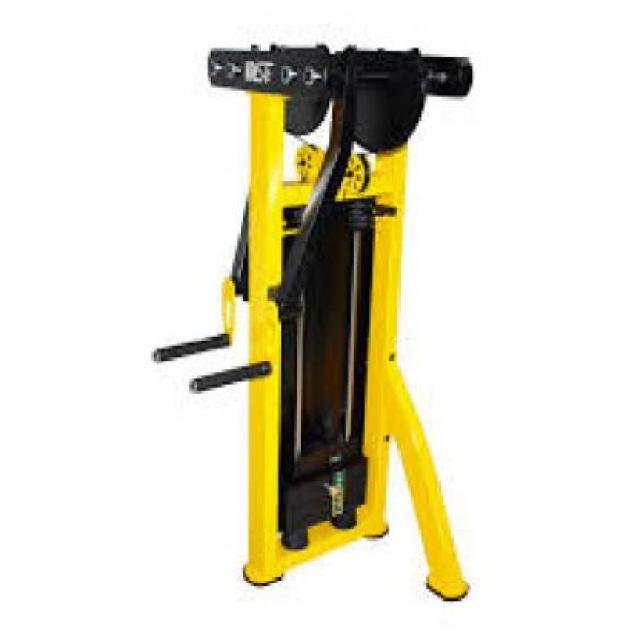lateral raises machine: (155, 48, 477, 602)
